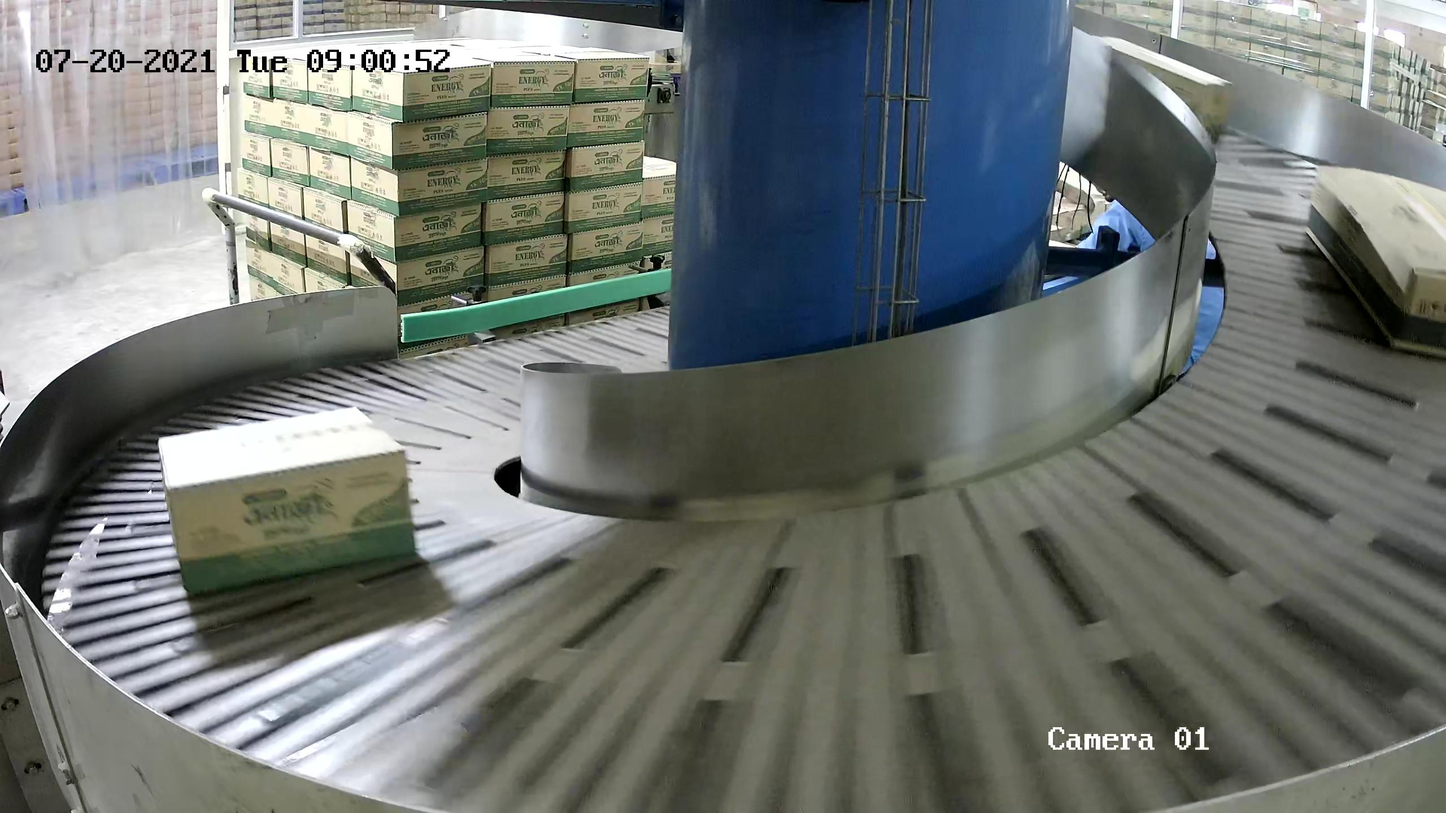Box: (157, 403, 418, 594), (1303, 162, 1446, 362), (1087, 30, 1234, 144)
